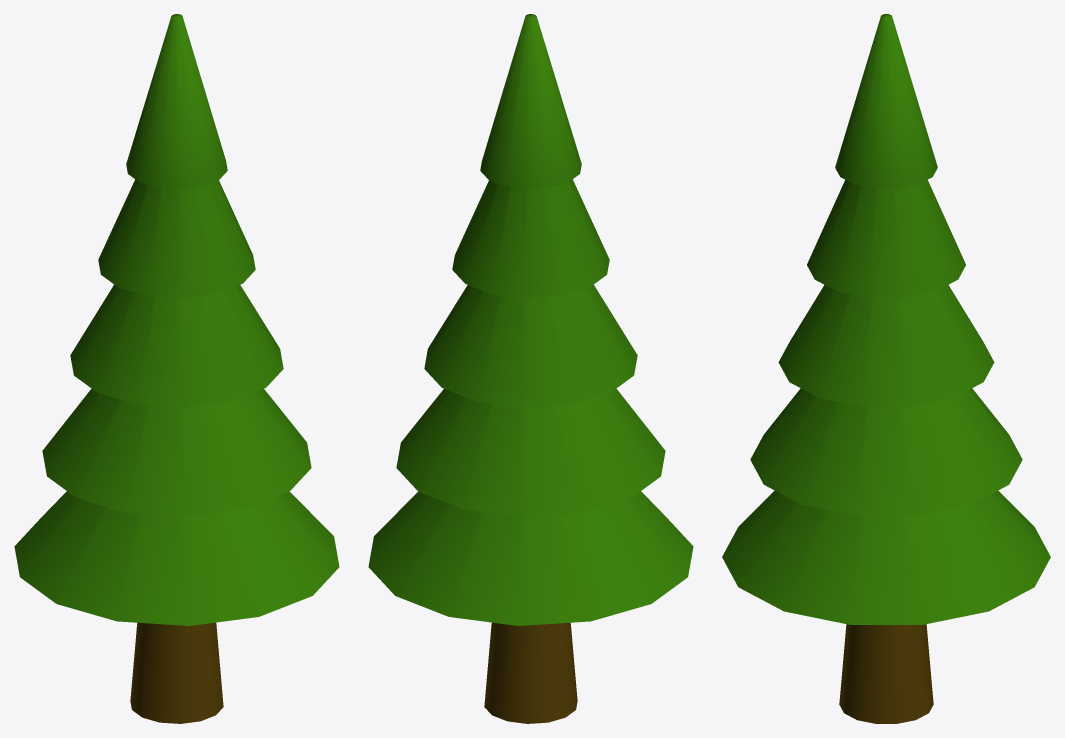
File: Big_Tree1.fbx
The picture shows the model from 3 angles, left to right: view 1: azimuth 30°, elevation 25°; view 2: azimuth 150°, elevation 25°; view 3: azimuth 270°, elevation 25°; orthographic projection.
Parts seen in each view (by area): view 1: Big_Tree.001; view 2: Big_Tree.001; view 3: Big_Tree.001.
Part boxes in pixels (x1,y1,x2,y2): Big_Tree.001: (14,14,339,723); Big_Tree.001: (368,14,693,723); Big_Tree.001: (722,14,1050,723).
Size of the model in its own units: 239 by 567 by 246.
